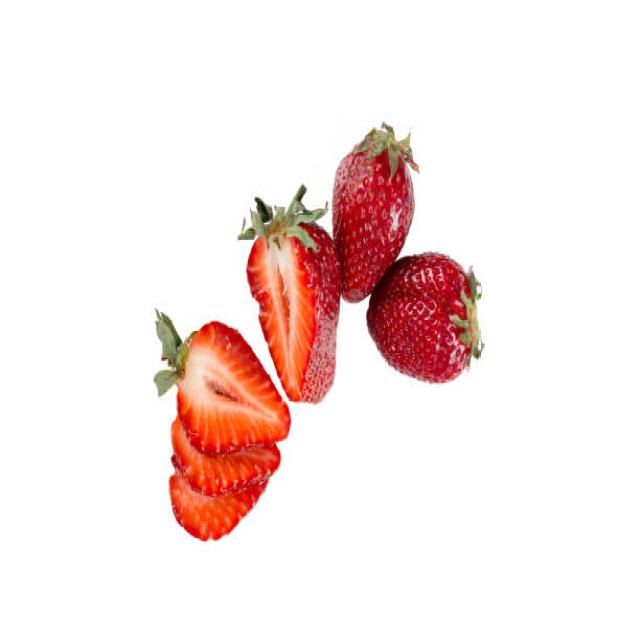Healthy Fruit: (246, 222, 343, 404), (366, 250, 473, 384), (332, 145, 416, 305)
